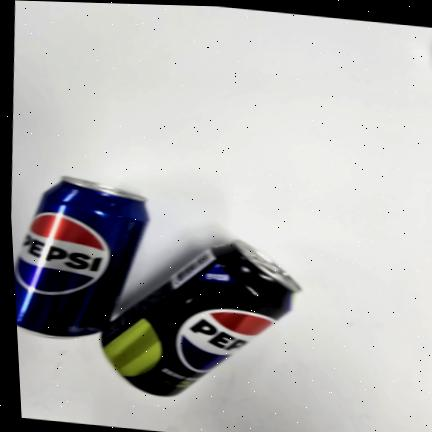can_pepsi: (14, 177, 148, 338)
can_pepsi_zero: (101, 240, 300, 396)
